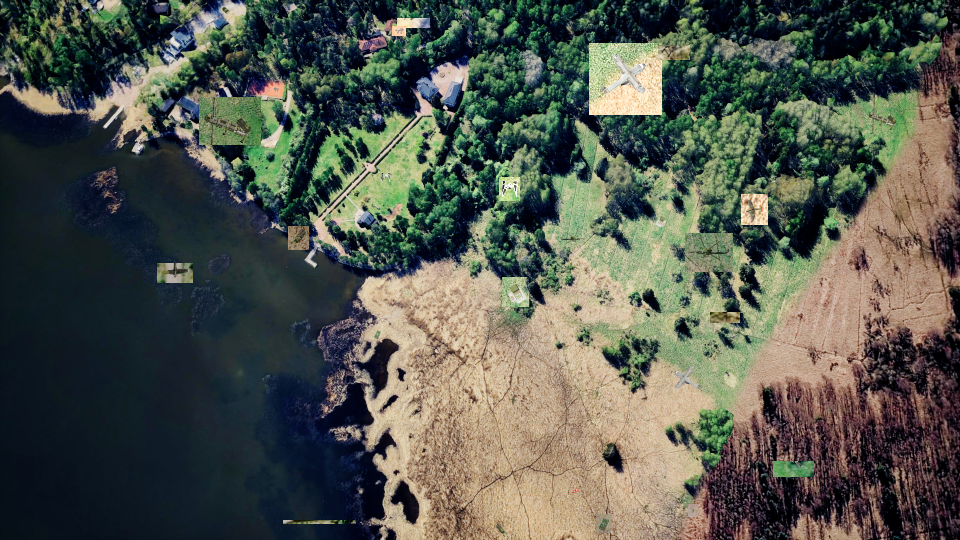condor: (589, 43, 662, 115)
hangar: (283, 520, 356, 524)
helicopter: (685, 233, 733, 272)
jammer: (596, 514, 611, 533)
jet_plane: (773, 461, 814, 477)
large_launcher: (199, 97, 261, 145)
large_tower: (658, 45, 690, 60)
medium_launcher: (710, 312, 740, 323)
medium_plane: (157, 263, 193, 283)
mine_roller: (288, 226, 309, 250)
small_launcher: (688, 504, 698, 517)
small_plane: (741, 194, 768, 225)
small_tower: (502, 277, 529, 307)
spacecraft: (499, 177, 520, 201)
ta-ta: (392, 26, 406, 36)
tank: (397, 18, 430, 28)
